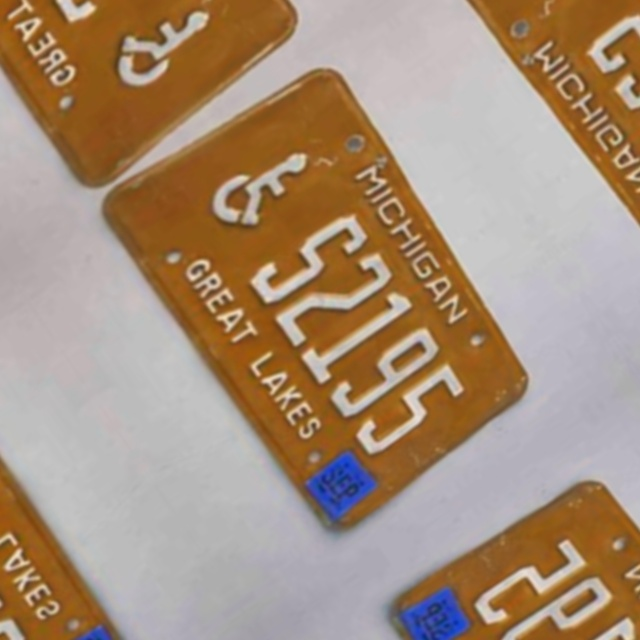ISA: (199, 132, 325, 245), (97, 0, 223, 99), (532, 0, 640, 14)
